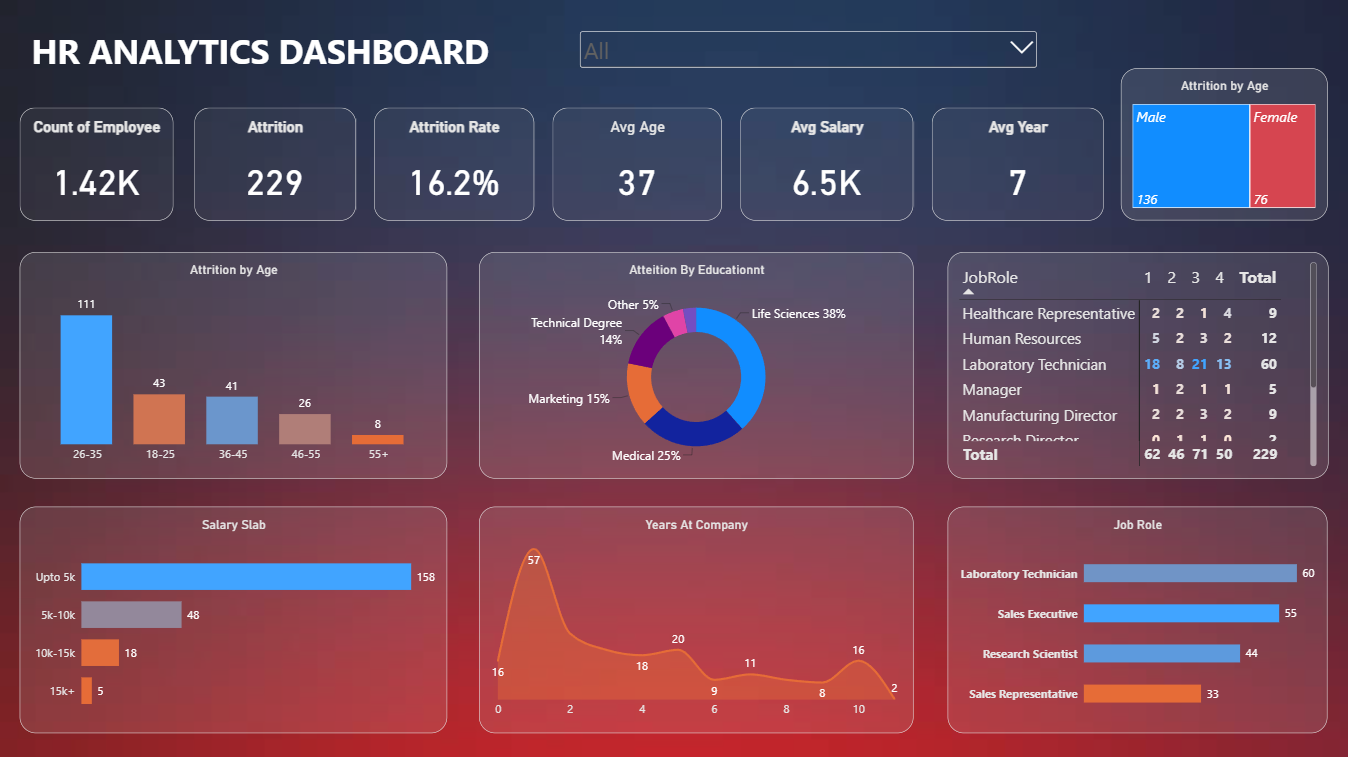

The page's visual inventory and layout, read from the dashboard file:
{"tool":"powerbi","page":{"name":"Page 1","canvas":[1920,1080],"ordinal":0},"visuals":[{"type":"PBI_CV_7B952816_A48F_49B4_9E13_15E3BB2C0337","title":"Count of Employee","fields":{"Values":["CountNonNull(HR_Analytics.EmpID)"]},"box":[28.2,153.8,218.6,160.6],"z":0},{"type":"PBI_CV_7B952816_A48F_49B4_9E13_15E3BB2C0337","title":"Attrition","fields":{"Values":["Sum(HR_Analytics.AttritionCount)"]},"box":[275.8,153.8,229.8,160.6],"z":1000},{"type":"PBI_CV_7B952816_A48F_49B4_9E13_15E3BB2C0337","title":"Attrition Rate","fields":{"Values":["HR_Analytics.AttritionRate"]},"box":[532.4,153.8,227.6,160.6],"z":2000},{"type":"PBI_CV_7B952816_A48F_49B4_9E13_15E3BB2C0337","title":"Avg Age","fields":{"Values":["Avg(HR_Analytics.Age)"]},"box":[786.7,153.8,241,160.6],"z":3000},{"type":"PBI_CV_7B952816_A48F_49B4_9E13_15E3BB2C0337","title":"Avg Year","fields":{"Values":["Avg(HR_Analytics.YearsAtCompany)"]},"box":[1326.1,153.2,244.5,160.5],"z":4000},{"type":"PBI_CV_7B952816_A48F_49B4_9E13_15E3BB2C0337","title":"Avg Salary","fields":{"Values":["Avg(HR_Analytics.MonthlyIncome)"]},"box":[1053.5,153.2,246.4,160.5],"z":5000},{"type":"donutChart","title":"Atteition By Educationnt","fields":{"Category":["HR_Analytics.EducationField"],"Y":["Sum(HR_Analytics.AttritionCount)"]},"box":[682,358,618,322],"z":6000},{"type":"columnChart","title":"Attrition by Age","fields":{"Category":["HR_Analytics.AgeGroup"],"Y":["Sum(HR_Analytics.AttritionCount)"]},"box":[28,358,608,322],"z":7000},{"type":"pivotTable","fields":{"Columns":["HR_Analytics.JobSatisfaction"],"Rows":["HR_Analytics.JobRole"],"Values":["Sum(HR_Analytics.AttritionCount)"]},"box":[1348,358,542,322],"z":8000},{"type":"barChart","title":"Salary Slab","fields":{"Category":["HR_Analytics.SalarySlab"],"Y":["Sum(HR_Analytics.AttritionCount)"]},"box":[28,720,608,322],"z":9000},{"type":"barChart","title":"Job Role","fields":{"Category":["HR_Analytics.JobRole"],"Y":["Sum(HR_Analytics.AttritionCount)"]},"box":[1348,720,540,322],"z":10000},{"type":"areaChart","title":"Years At Company","fields":{"Category":["HR_Analytics.YearsAtCompany"],"Y":["Sum(HR_Analytics.AttritionCount)"]},"box":[682,720,618,322],"z":11000},{"type":"treemap","title":"Attrition by Age","fields":{"Group":["HR_Analytics.Gender"],"Values":["Sum(HR_Analytics.AttritionCount)"]},"box":[1594,98,294,216],"z":12000},{"type":"textbox","box":[44,40,662,94],"z":14000},{"type":"slicer","fields":{"Values":["HR_Analytics.Department"]},"box":[820,40,660,150],"z":14001}]}

Visuals, with their boxes in screenshot pixels (x1, y1, x2, y2), scaled from the page's 1920x1080 canvas onto the 1348x757 screenshot:
"Count of Employee" PBI_CV_7B952816_A48F_49B4_9E13_15E3BB2C0337: 20/108/173/220
"Attrition" PBI_CV_7B952816_A48F_49B4_9E13_15E3BB2C0337: 194/108/355/220
"Attrition Rate" PBI_CV_7B952816_A48F_49B4_9E13_15E3BB2C0337: 374/108/534/220
"Avg Age" PBI_CV_7B952816_A48F_49B4_9E13_15E3BB2C0337: 552/108/722/220
"Avg Year" PBI_CV_7B952816_A48F_49B4_9E13_15E3BB2C0337: 931/107/1103/220
"Avg Salary" PBI_CV_7B952816_A48F_49B4_9E13_15E3BB2C0337: 740/107/913/220
"Atteition By Educationnt" donutChart: 479/251/913/477
"Attrition by Age" columnChart: 20/251/447/477
pivotTable - HR_Analytics.JobSatisfaction x HR_Analytics.JobRole: 946/251/1327/477
"Salary Slab" barChart: 20/505/447/730
"Job Role" barChart: 946/505/1326/730
"Years At Company" areaChart: 479/505/913/730
"Attrition by Age" treemap: 1119/69/1326/220
textbox: 31/28/496/94
slicer - HR_Analytics.Department: 576/28/1039/133
